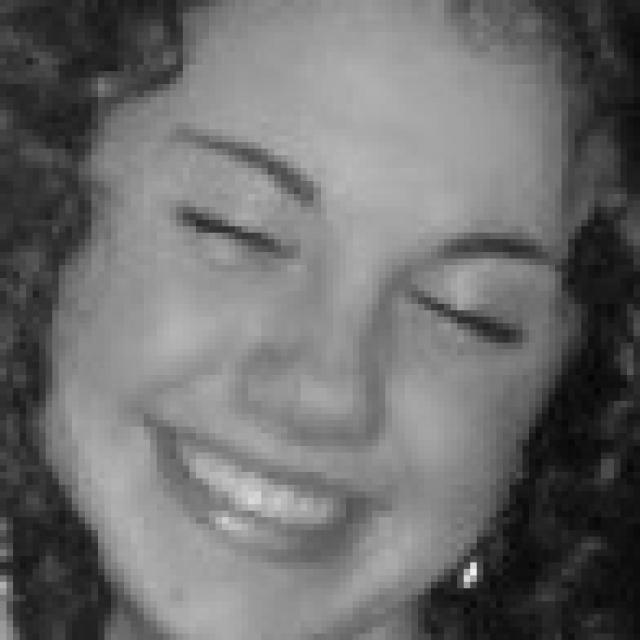real: (45, 0, 579, 640), (148, 174, 548, 351)
